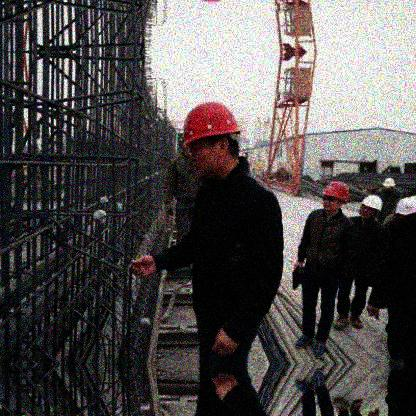helmet: (183, 102, 239, 183), (323, 181, 351, 216), (359, 195, 384, 223)
